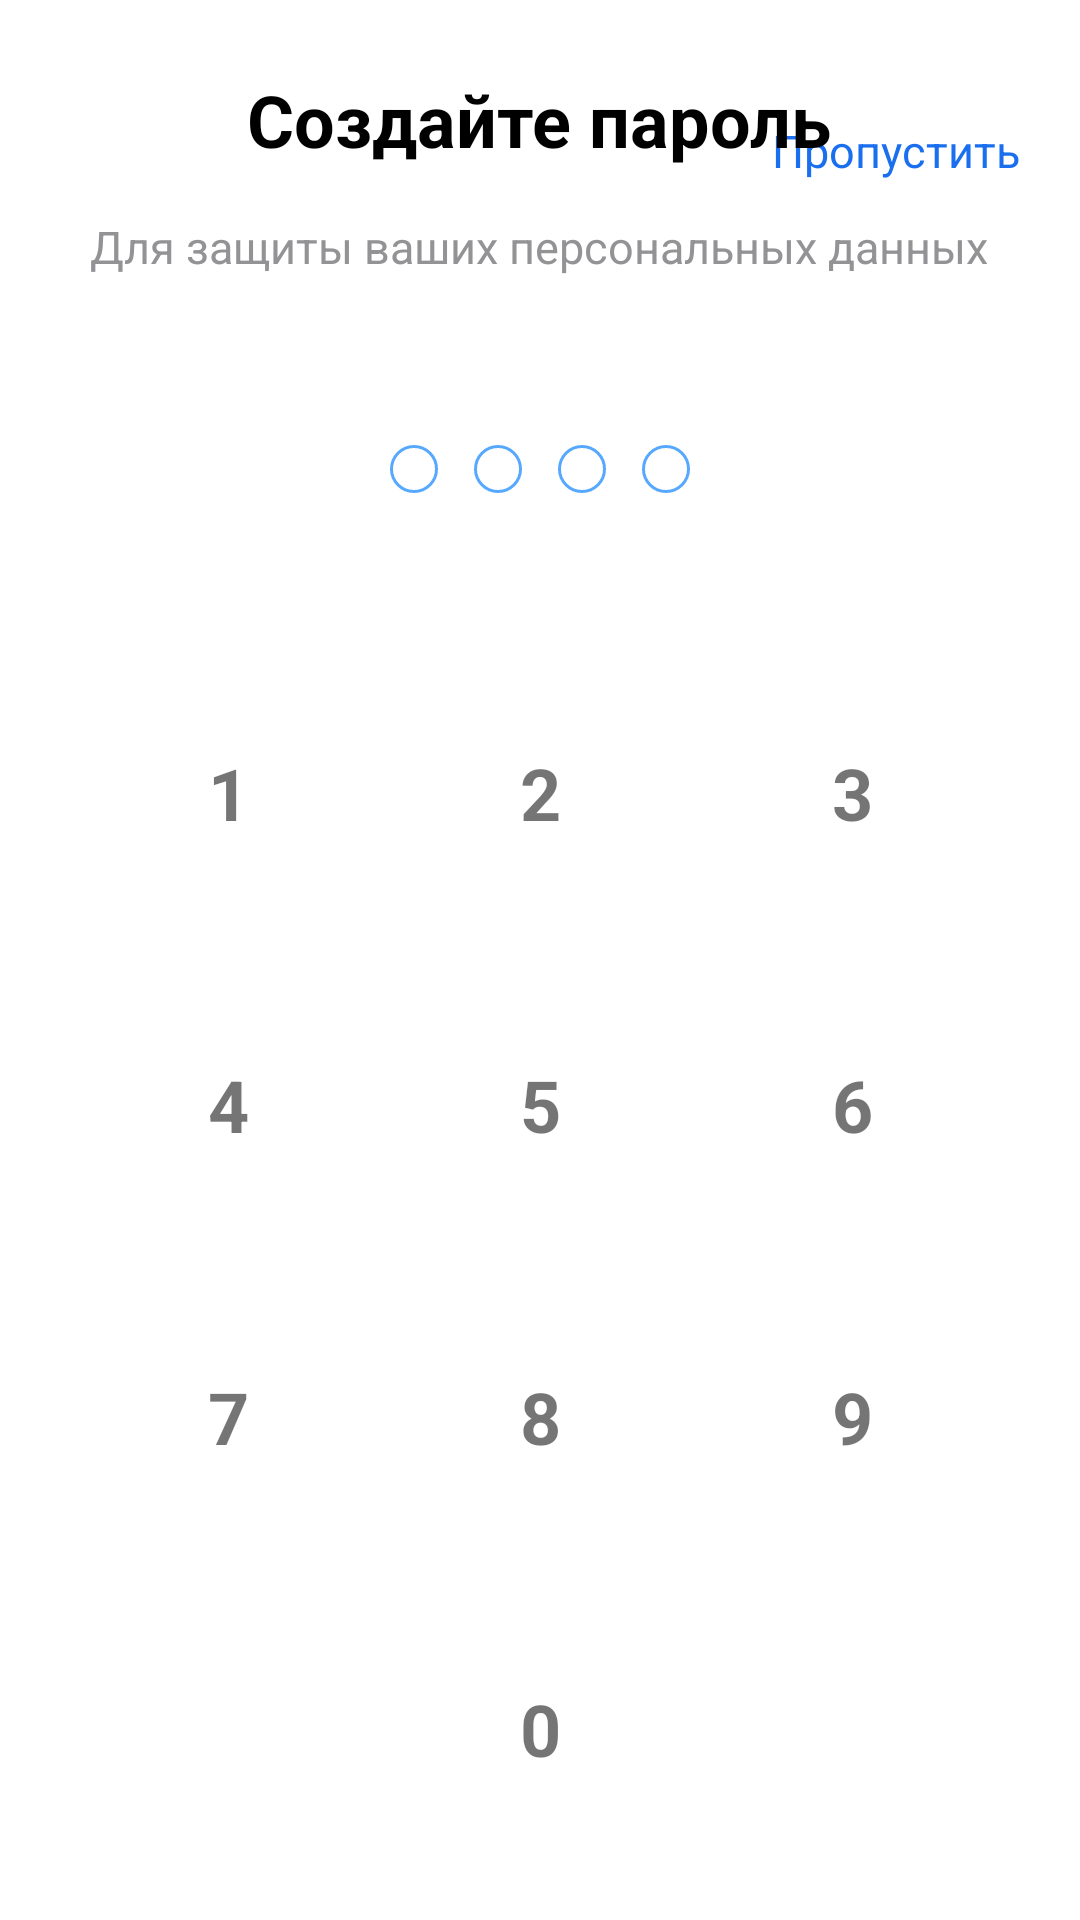

Icon click points for this 1080x1920 phone screenshot, format point (x, y):
indicator: point (414, 469), point (498, 469), point (582, 469), point (666, 469)
